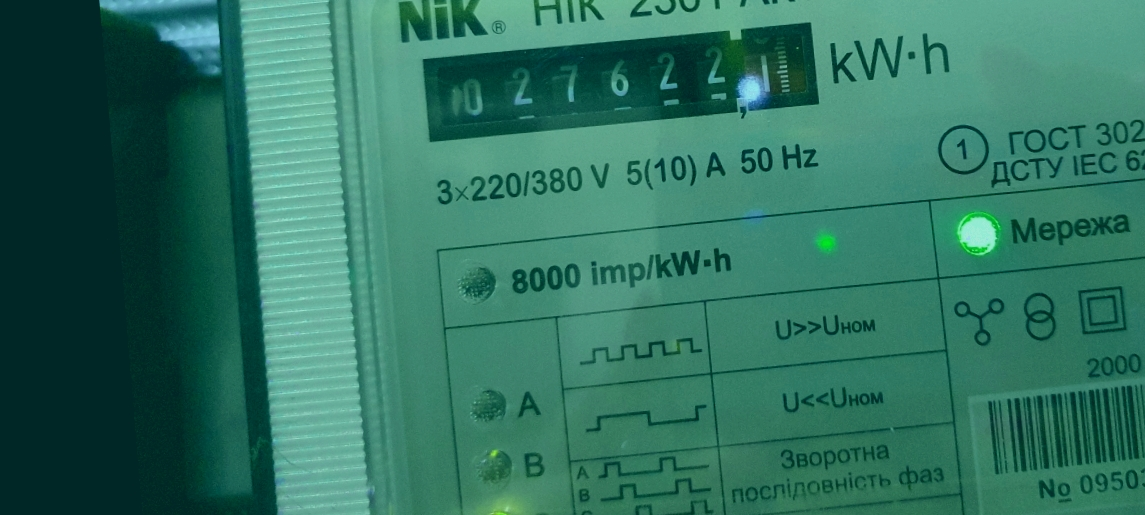0: (458, 73, 486, 118)
1: (755, 50, 774, 94)
2: (652, 48, 680, 92), (508, 63, 535, 108), (702, 42, 728, 85)
6: (606, 56, 631, 98)
7: (556, 61, 583, 106)
screen: (408, 10, 833, 149)
